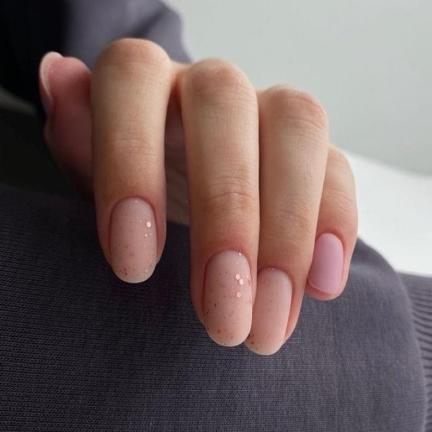Nail: (203, 250, 252, 346), (244, 268, 293, 355), (110, 198, 157, 283), (308, 233, 344, 294)
